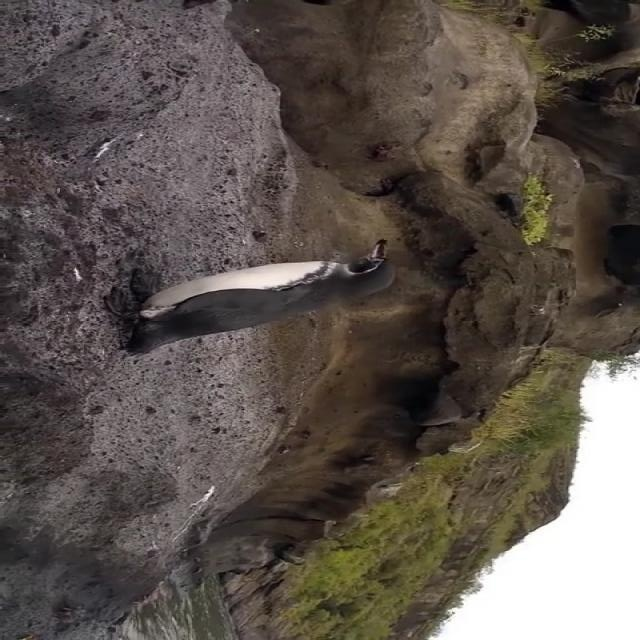penguin: (104, 240, 396, 358)
